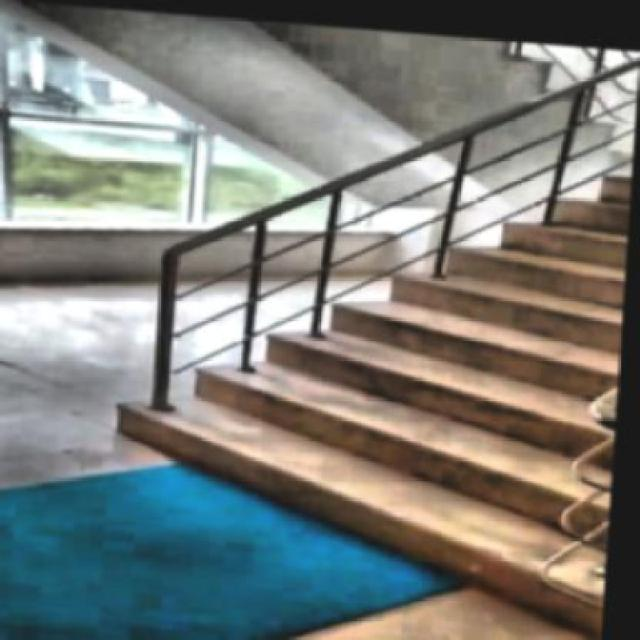stair: (82, 61, 636, 624)
